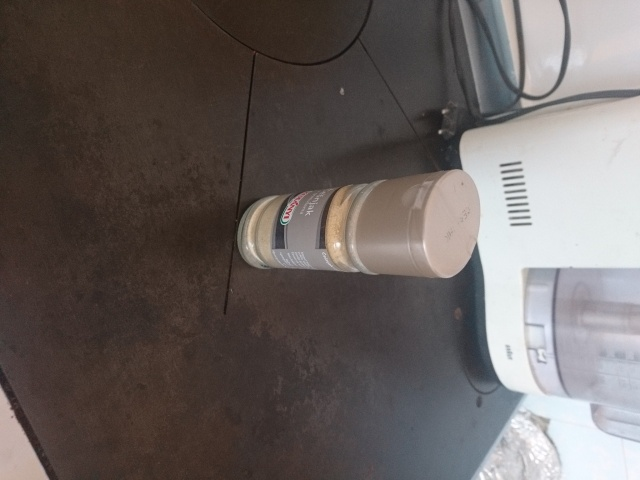Kotanyi Garlic Granules 70g: (233, 166, 483, 281)
